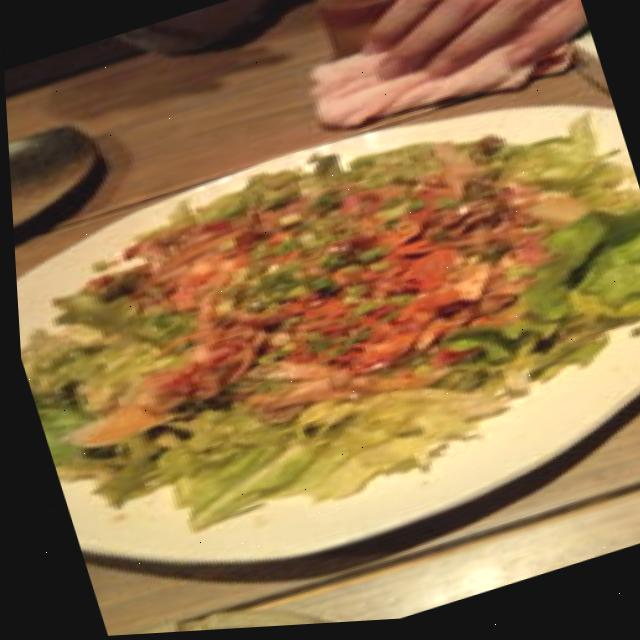蔬菜料理: (4, 46, 640, 631)
